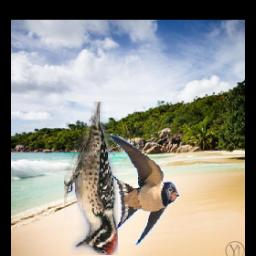Swallow: (97, 135, 180, 247)
Woodpecker: (65, 103, 119, 256)
